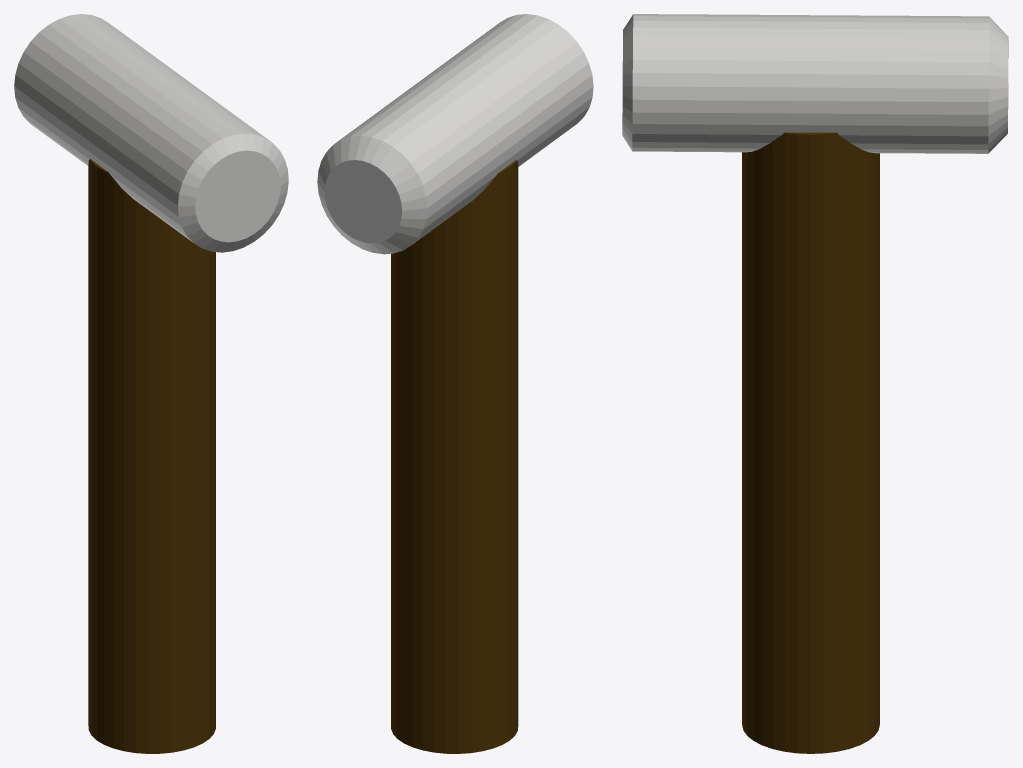
Rendered from Gummihammer.fbx.
3 views of the same model, side by side, from view 1: azimuth 30°, elevation 25°; view 2: azimuth 150°, elevation 25°; view 3: azimuth 270°, elevation 25° (orthographic). The views are drawn at different scales.
Visible parts, largest first — view 1: Zylinder.001; view 2: Zylinder.001; view 3: Zylinder.001.
Part boxes in pixels (bbox=[...]): Zylinder.001: bbox=[14, 14, 288, 753]; Zylinder.001: bbox=[317, 14, 593, 753]; Zylinder.001: bbox=[622, 14, 1008, 753].
Bounding box in the file's own units: 203 × 1127 × 561.
